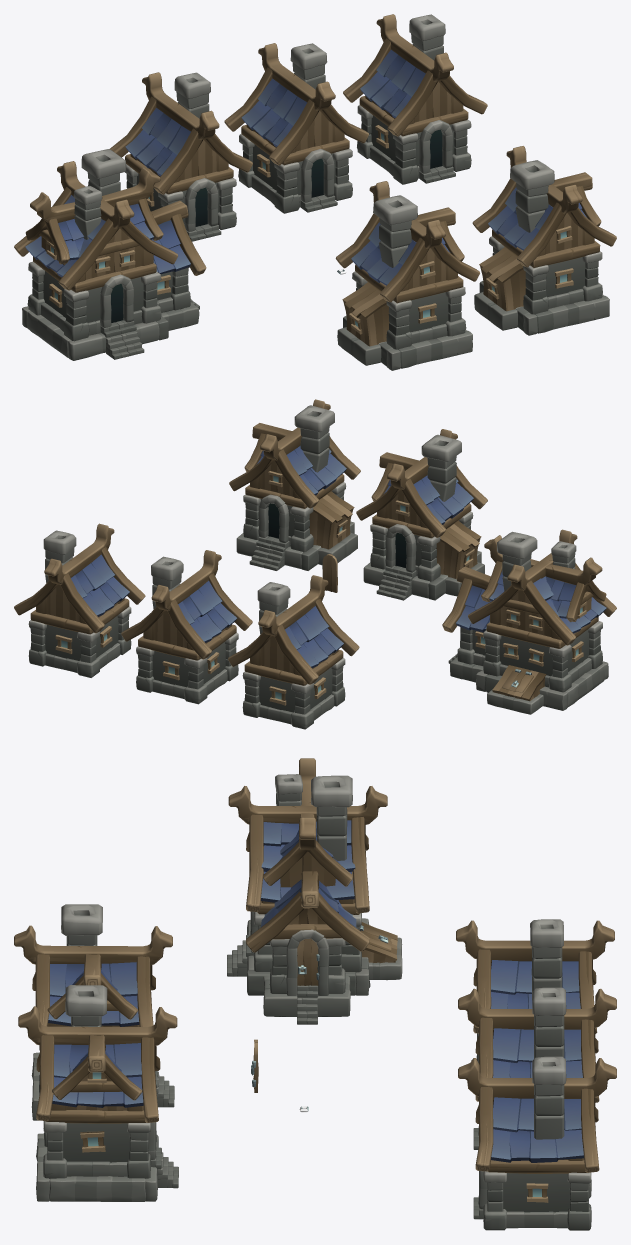
Rendered from houses.glb.
3 views of the same model, one above another, from view 1: azimuth 30°, elevation 25°; view 2: azimuth 150°, elevation 25°; view 3: azimuth 270°, elevation 25° (orthographic). The views are drawn at different scales.
Visible parts, largest first — view 1: house_Lv3, house_Lv2.002, house_Lv2.001, house_Lv1.004, house_Lv1.003, house_Lv1; view 2: house_Lv3, house_Lv2.002, house_Lv2.001, house_Lv1, house_Lv1.004, house_Lv1.003, house_Lv3_door; view 3: house_Lv3, house_Lv2.002, house_Lv1.004, house_Lv2.001, house_Lv1.003, house_Lv1.
Boxes of the visible parts, x1,y1,x2,y2 form: house_Lv3: [14, 149, 206, 360]; house_Lv2.002: [472, 146, 616, 335]; house_Lv2.001: [335, 181, 479, 370]; house_Lv1.004: [343, 14, 487, 184]; house_Lv1.003: [224, 43, 368, 213]; house_Lv1: [109, 72, 252, 241]; house_Lv3: [442, 529, 616, 714]; house_Lv2.002: [229, 399, 360, 570]; house_Lv2.001: [356, 429, 487, 600]; house_Lv1: [228, 575, 359, 729]; house_Lv1.004: [14, 523, 145, 677]; house_Lv1.003: [121, 550, 252, 704]; house_Lv3_door: [322, 554, 337, 592]; house_Lv3: [227, 758, 402, 1024]; house_Lv2.002: [18, 985, 178, 1201]; house_Lv1.004: [458, 1056, 616, 1230]; house_Lv2.001: [14, 904, 174, 1120]; house_Lv1.003: [458, 987, 616, 1149]; house_Lv1: [456, 919, 614, 1062].
Size of the model in its own units: 34.69 by 10.41 by 28.77.
7 materials, 6 textured.
